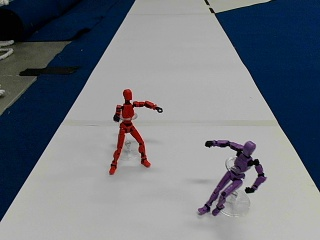pedestrian: (198, 138, 266, 214), (109, 89, 160, 173)
